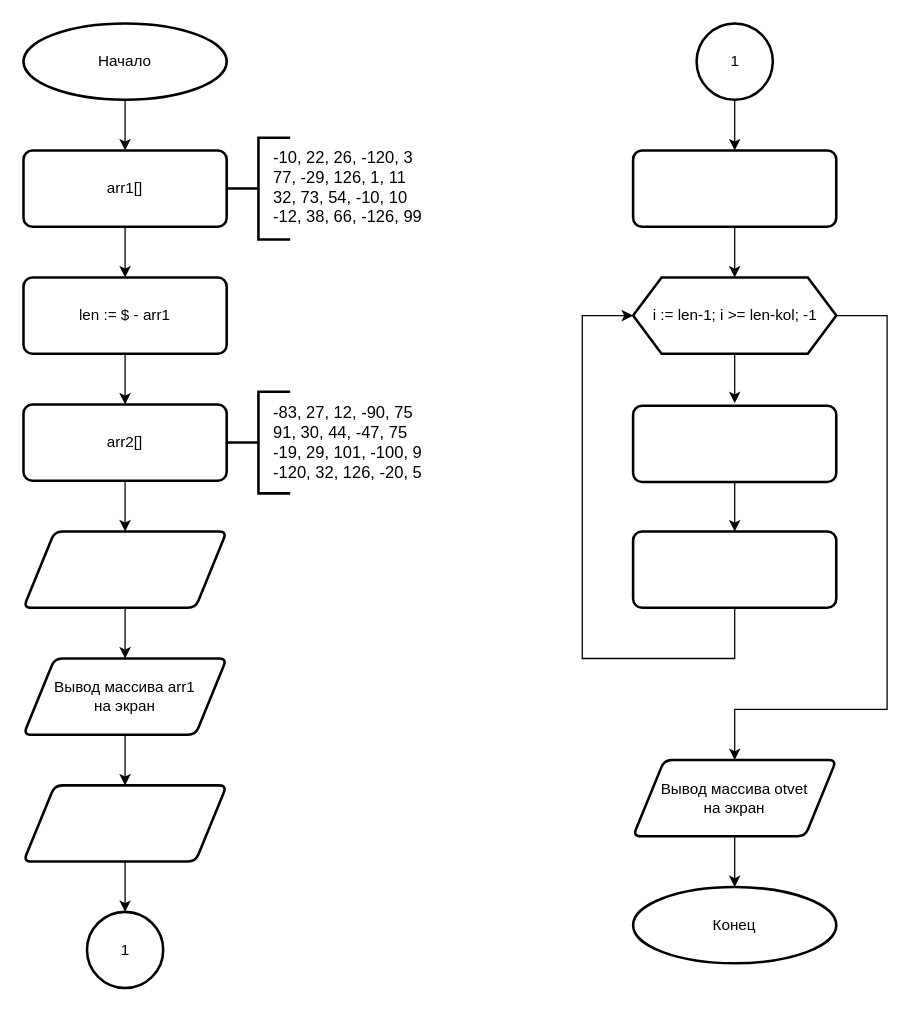
The diagram is 919 pixels wide and 1011 high, and some of its shapes have lost their labels. The centre of each missing label's shape, as x and y in pixels:
"ind := 0" belongs at pixel 734 188.
"ind := ind + 1" belongs at pixel 734 569.
"otvet[ind] := arr1[i] + arr2[i]" belongs at pixel 734 443.
"Ввод kol с клавиатуры" belongs at pixel 124 569.
"Вывод массива arr2 на экран" belongs at pixel 124 822.
